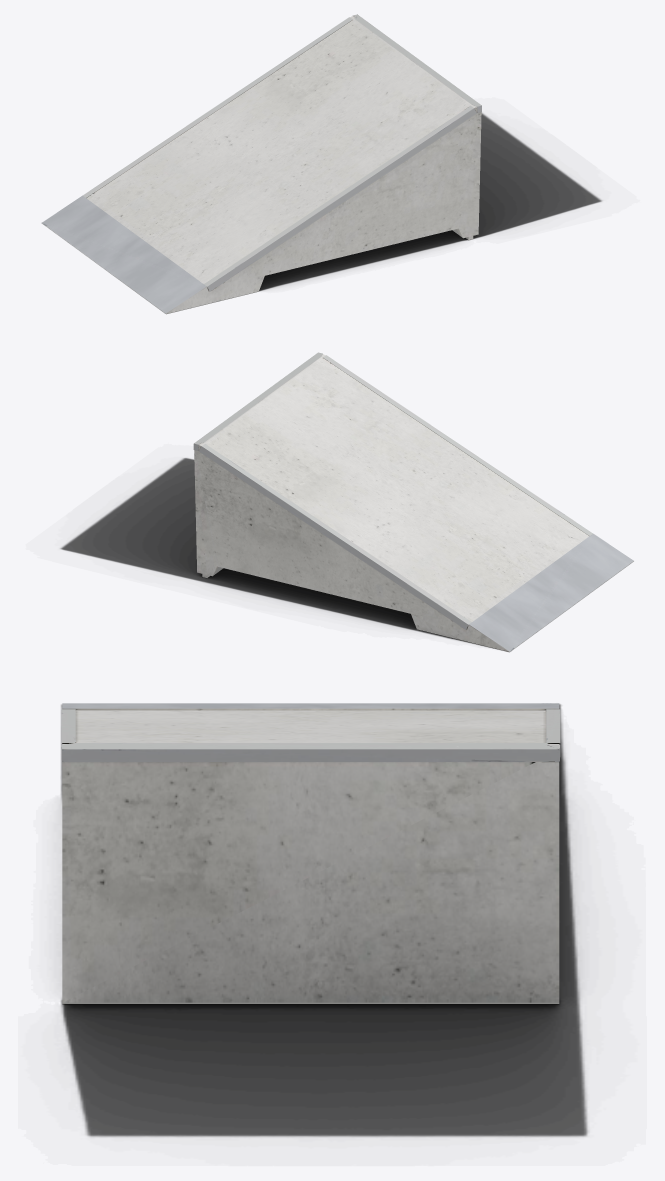
The model's file is bank-75.gltf.
3 renders of one model, top to bottom at view 1: azimuth 30°, elevation 25°; view 2: azimuth 150°, elevation 25°; view 3: azimuth 270°, elevation 25°, orthographic. The views are drawn at different scales.
Visible parts, largest first — view 1: SK0019_Bank_-75.001, Schatten; view 2: SK0019_Bank_-75.001, Schatten; view 3: SK0019_Bank_-75.001, Schatten.
Boxes of the visible parts, x1=… form: SK0019_Bank_-75.001: x1=42, y1=14, x2=481, y2=314; Schatten: x1=54, y1=113, x2=601, y2=311; SK0019_Bank_-75.001: x1=193, y1=352, x2=633, y2=652; Schatten: x1=60, y1=458, x2=629, y2=651; SK0019_Bank_-75.001: x1=61, y1=703, x2=560, y2=1004; Schatten: x1=61, y1=704, x2=587, y2=1136.
Size of the model in its own units: 2.78 by 0.73 by 1.58.
Materials: 4 (4 with a texture image).
